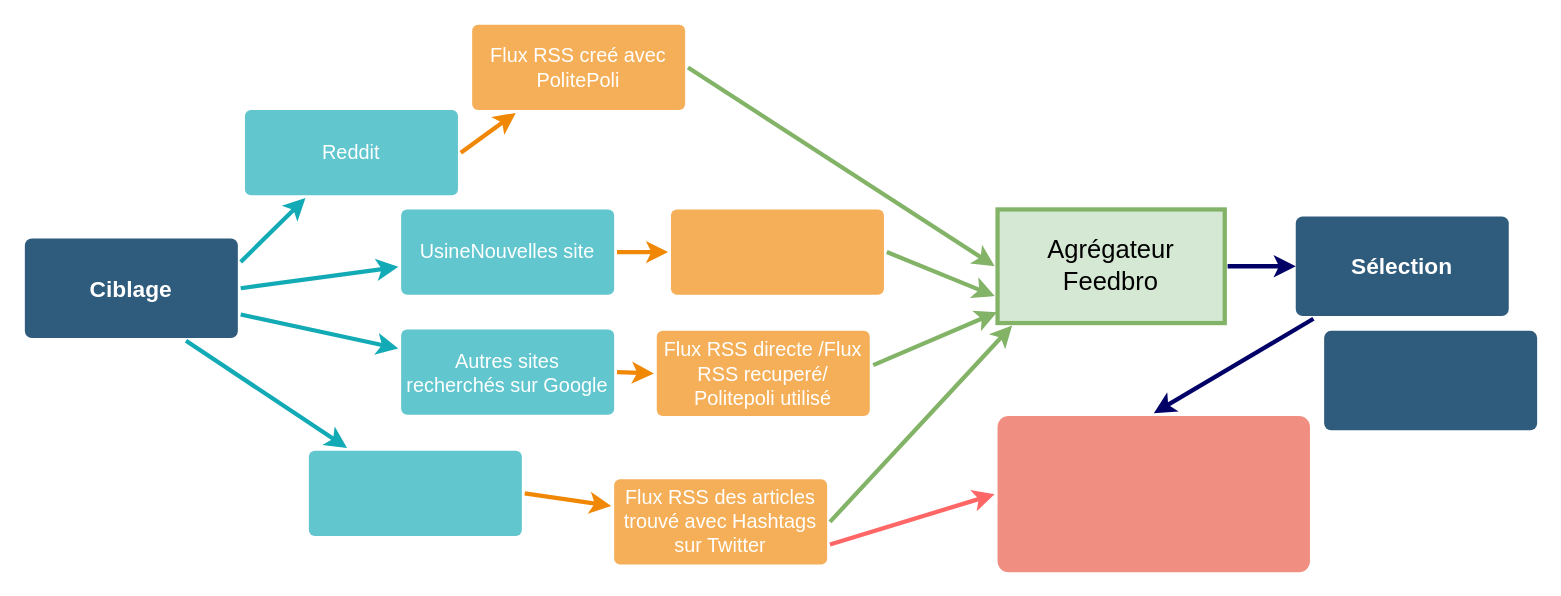
Image size: 1561x596. Some labels were removed from this diagram. The shapes that lost their labels are listed below. From the top down, each one's centre as x and y in pixels, then its label:
At point (776, 251): "Flux RSS recuperé avec Feedbro Chrome plugin".
At point (1429, 380): "Diffusion".
At point (414, 492): "Réseaux Sociaux".
At point (1153, 493): "Twitter + TweetDeck -Partage et collecte d'information relevante".
